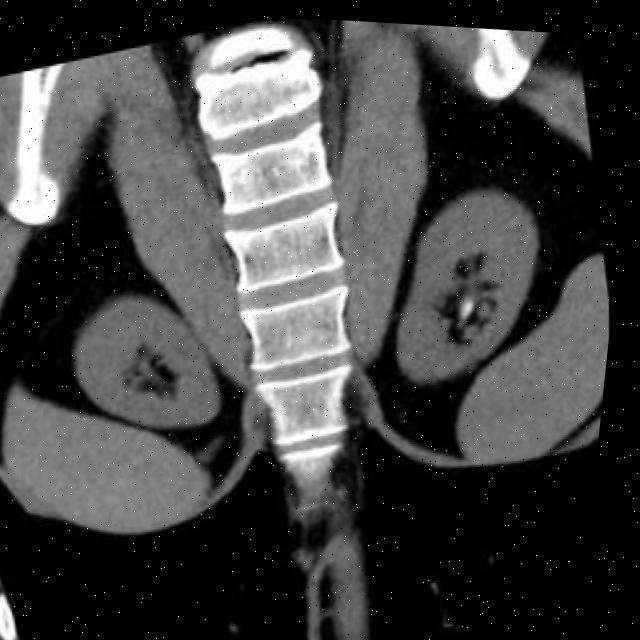Tas_Var: (462, 291, 486, 316)
